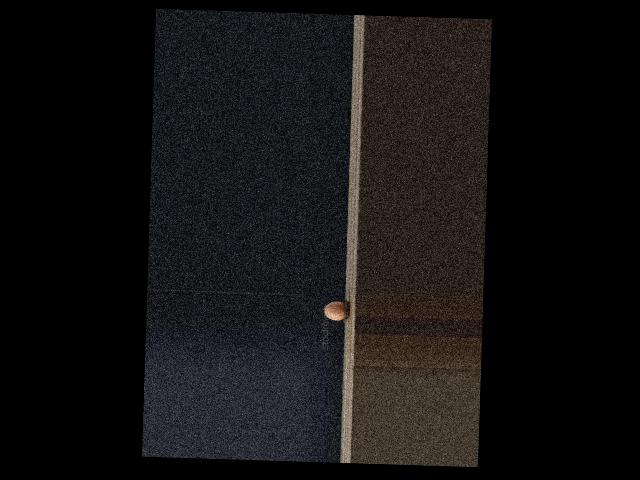egg: (324, 300, 345, 320)
